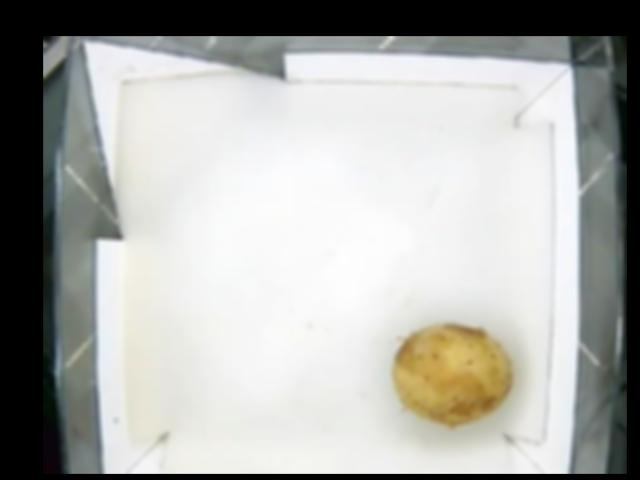Potato: (395, 324, 514, 427)
